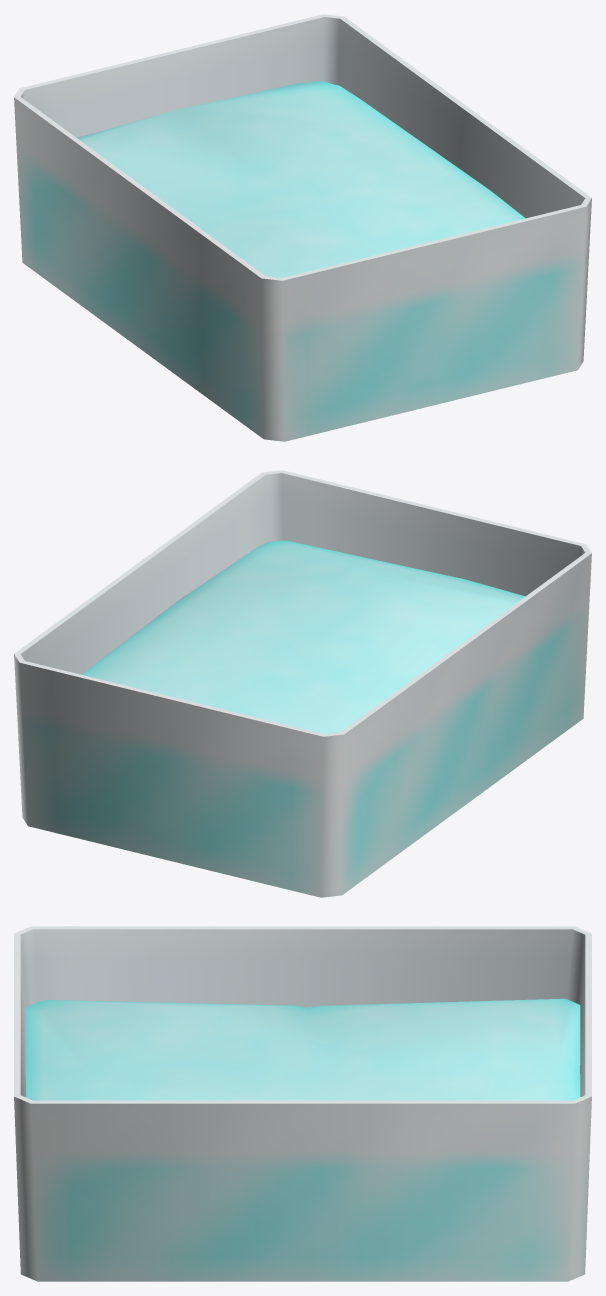
File: jsf_Ingredient_RawSugar_03.fbx
3 renders of one model, top to bottom at view 1: azimuth 30°, elevation 25°; view 2: azimuth 150°, elevation 25°; view 3: azimuth 270°, elevation 25°, orthographic. The views are drawn at different scales.
Parts seen in each view (by area): view 1: jsf_Ingredient_RawSugar_03; view 2: jsf_Ingredient_RawSugar_03; view 3: jsf_Ingredient_RawSugar_03.
Part boxes in pixels (left/top/right/bottom): jsf_Ingredient_RawSugar_03: left=14, top=14, right=591, bottom=441; jsf_Ingredient_RawSugar_03: left=14, top=470, right=591, bottom=897; jsf_Ingredient_RawSugar_03: left=14, top=926, right=591, bottom=1281.
Bounding box in the file's own units: 13.88 × 6.6 × 19.12.
